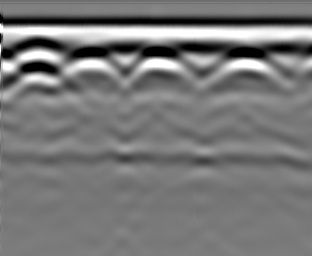pipe: (13, 36, 66, 74)
steel: (213, 48, 273, 81), (133, 47, 189, 82), (64, 44, 114, 80)
